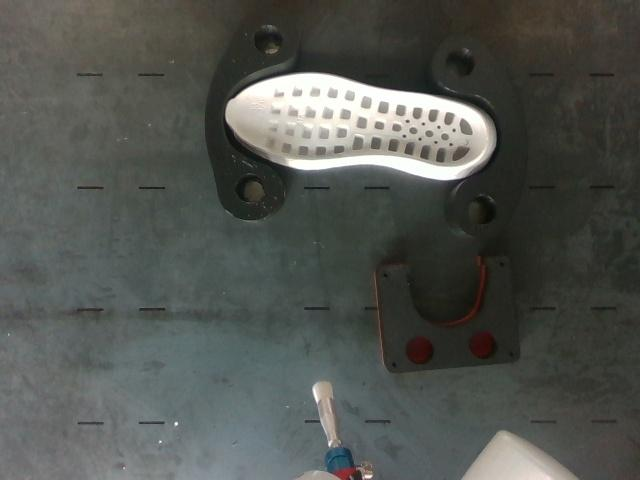shoes: (226, 73, 488, 168)
